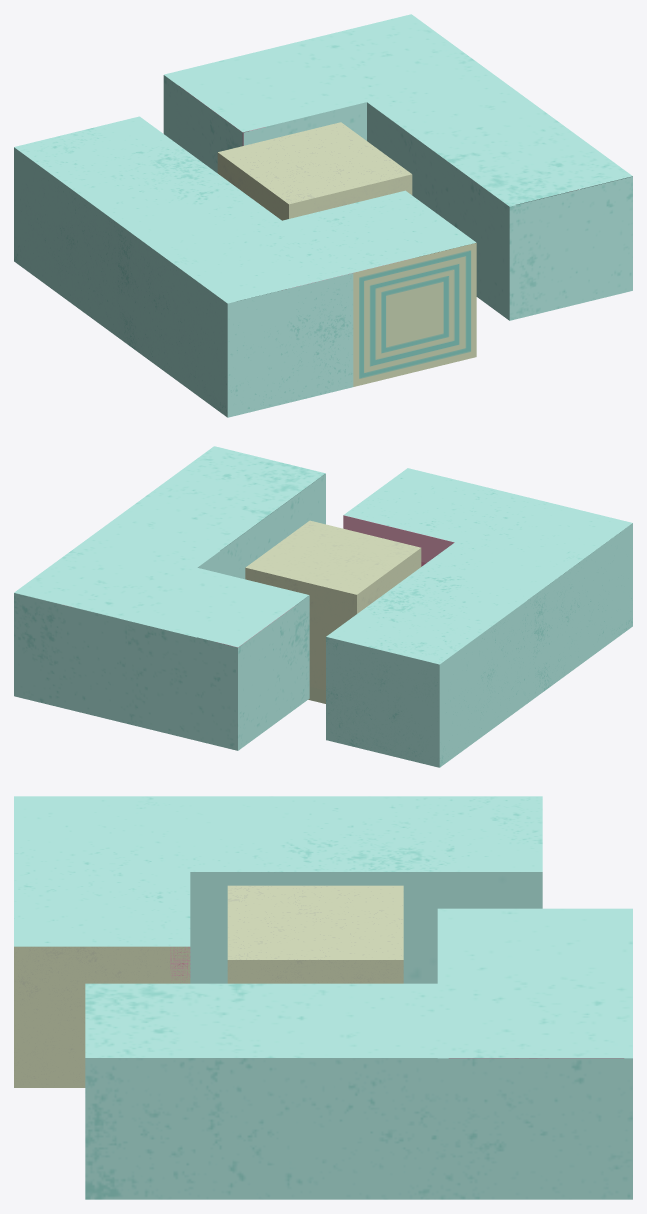
File: level05— Revise.fbx
3 views of the same model, one above another, from view 1: azimuth 30°, elevation 25°; view 2: azimuth 150°, elevation 25°; view 3: azimuth 270°, elevation 25° (orthographic). The views are drawn at different scales.
Parts seen in each view (by area): view 1: Plane.069, Plane.068, Plane.064, Plane.043, Plane.057, Plane.100, Plane.055, Plane.066, Plane.065, Plane.093, Plane.067; view 2: Plane.064, Plane.069, Plane.068, Plane.102, Plane.056, Plane.065, Plane.066, Plane.055, Plane.081, Plane.036, Plane.067; view 3: Plane.101, Plane.069, Plane.068, Plane.042, Plane.054, Plane.066, Plane.092.
Boxes of the visible parts, x1,y1,x2,y2 form: Plane.069: (164,14,632,206); Plane.068: (14,116,476,303); Plane.064: (14,147,227,417); Plane.043: (227,273,353,417); Plane.057: (353,243,476,386); Plane.100: (509,176,632,320); Plane.055: (243,102,509,320); Plane.066: (218,122,411,204); Plane.065: (163,75,242,172); Plane.093: (289,174,412,218); Plane.067: (217,152,288,220); Plane.064: (326,523,632,767); Plane.069: (14,446,325,647); Plane.068: (326,468,632,664); Plane.102: (125,620,237,750); Plane.056: (14,593,125,723); Plane.065: (238,595,309,750); Plane.066: (246,520,420,594); Plane.055: (197,474,325,642); Plane.081: (245,567,356,690); Plane.036: (343,515,454,566); Plane.067: (357,548,421,613); Plane.101: (85,1058,632,1199); Plane.069: (85,908,632,1057); Plane.068: (14,796,542,946); Plane.042: (190,872,542,983); Plane.054: (14,946,190,1087); Plane.066: (227,885,403,959); Plane.092: (227,960,403,983).
Size of the model in its own units: 704 by 201 by 703.
